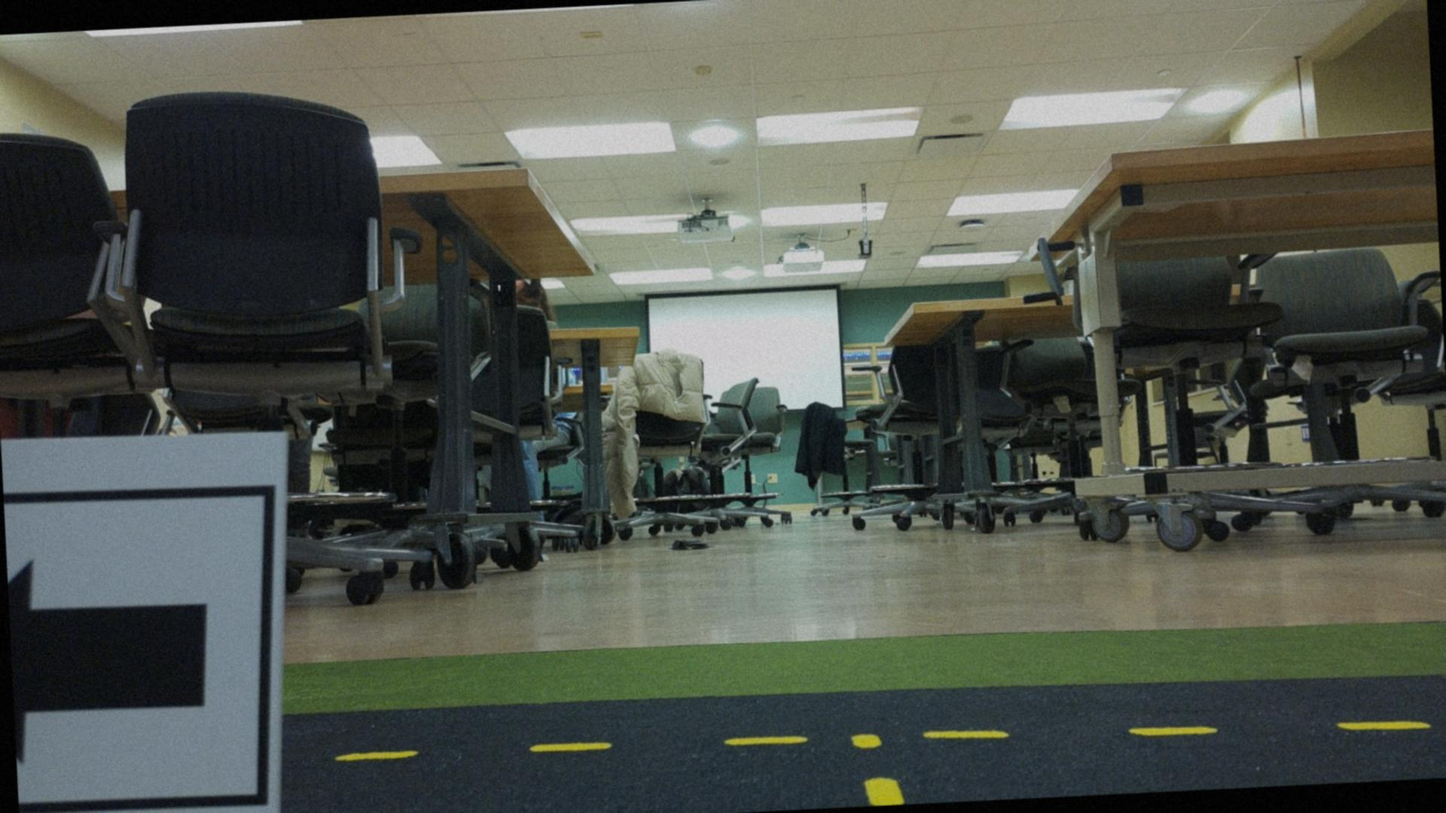yellowline: (338, 696, 1438, 780)
